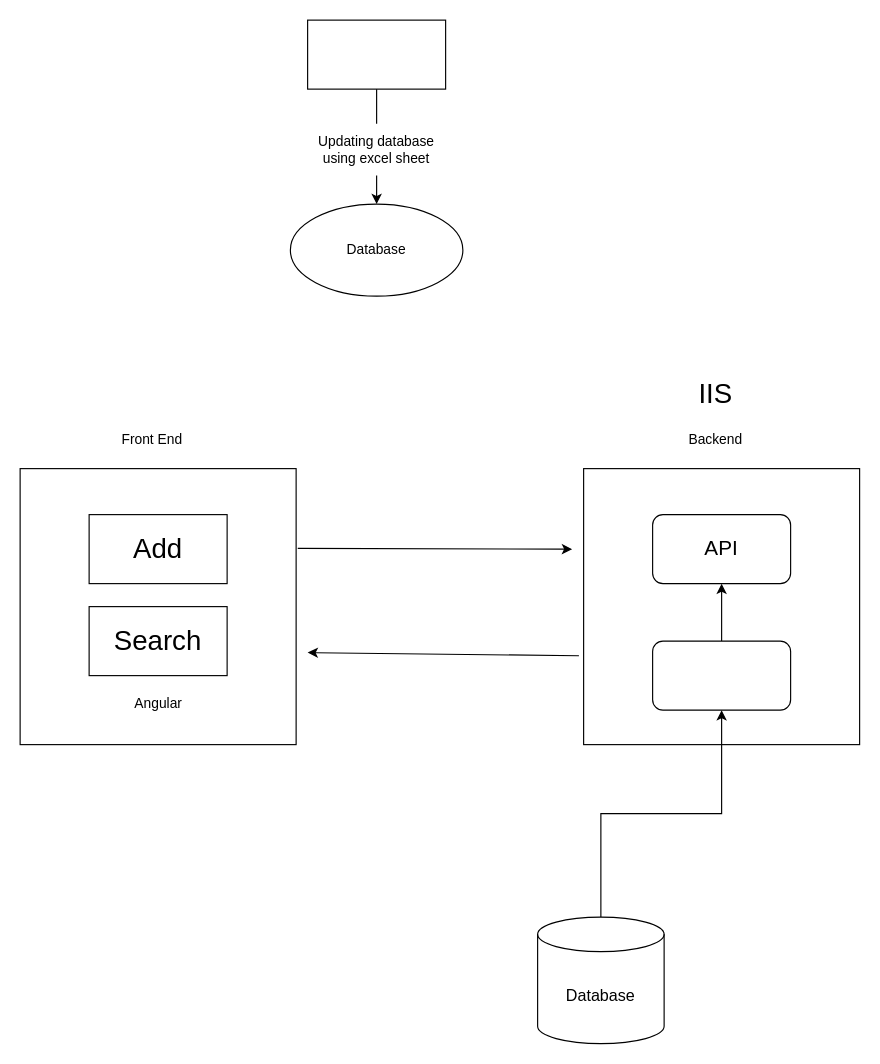
Image size: 880x1064. Some labels were removed from this diagram. Here are the shapes that lost their labels. From the top down, the centre of each, then its label:
At pixel 376 54: "Excel (Filtered Data)".
At pixel 721 675: "Entity Framework Core".
